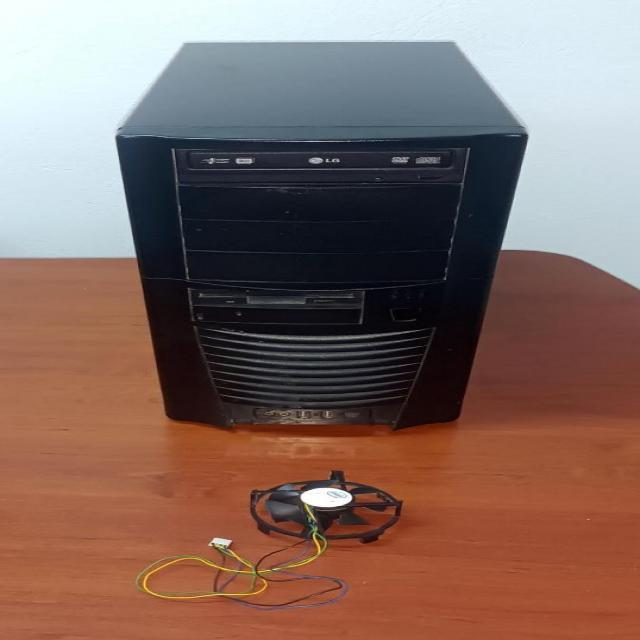Desktop-PC: (108, 24, 550, 460)
